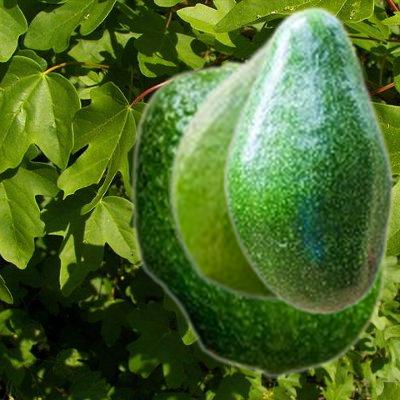avocado: (129, 59, 385, 377), (221, 5, 393, 315), (168, 13, 286, 301)
